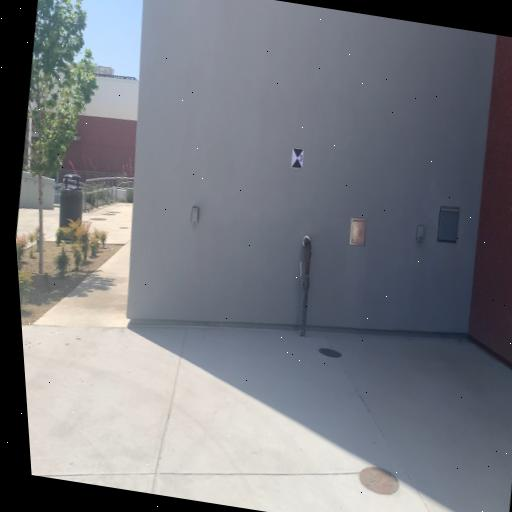target3: (291, 147, 304, 169)
